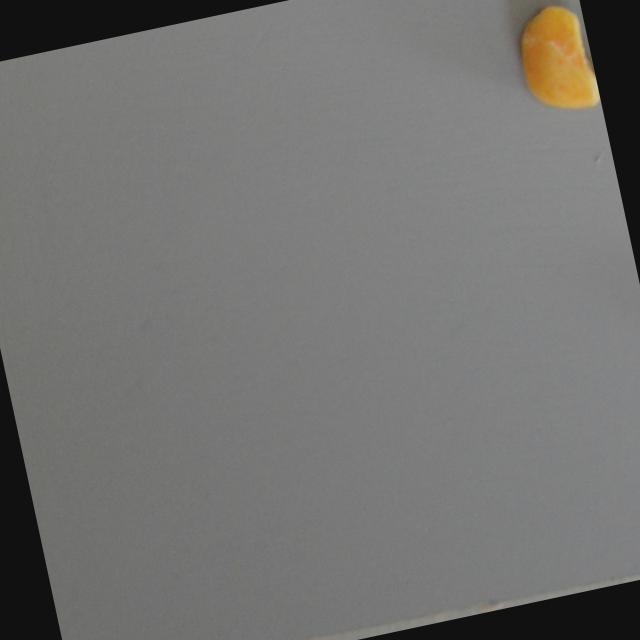pelicula: (506, 0, 602, 122)
